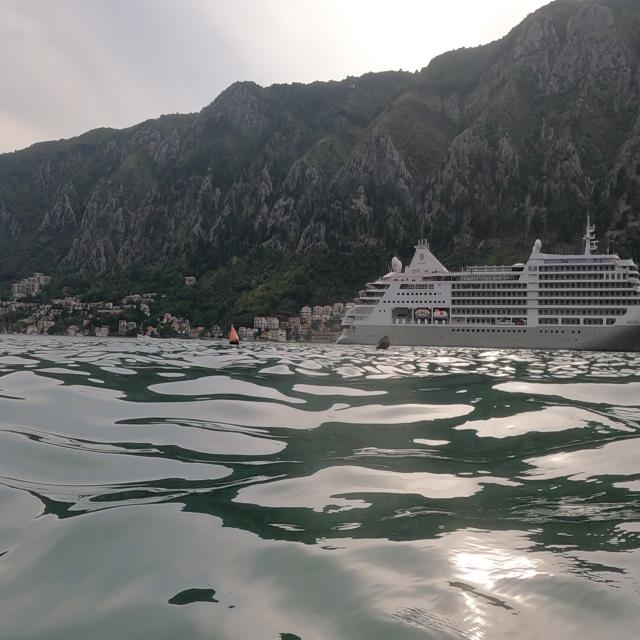boat: (334, 211, 638, 353)
buoy: (373, 330, 392, 359), (224, 323, 243, 349)
